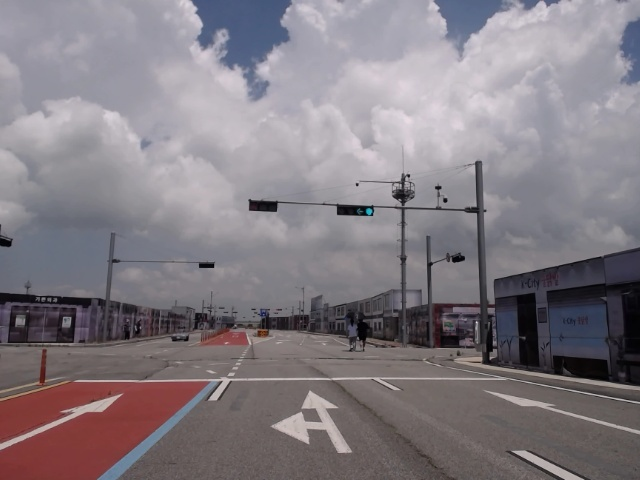all_green_4: (336, 206, 373, 217)
